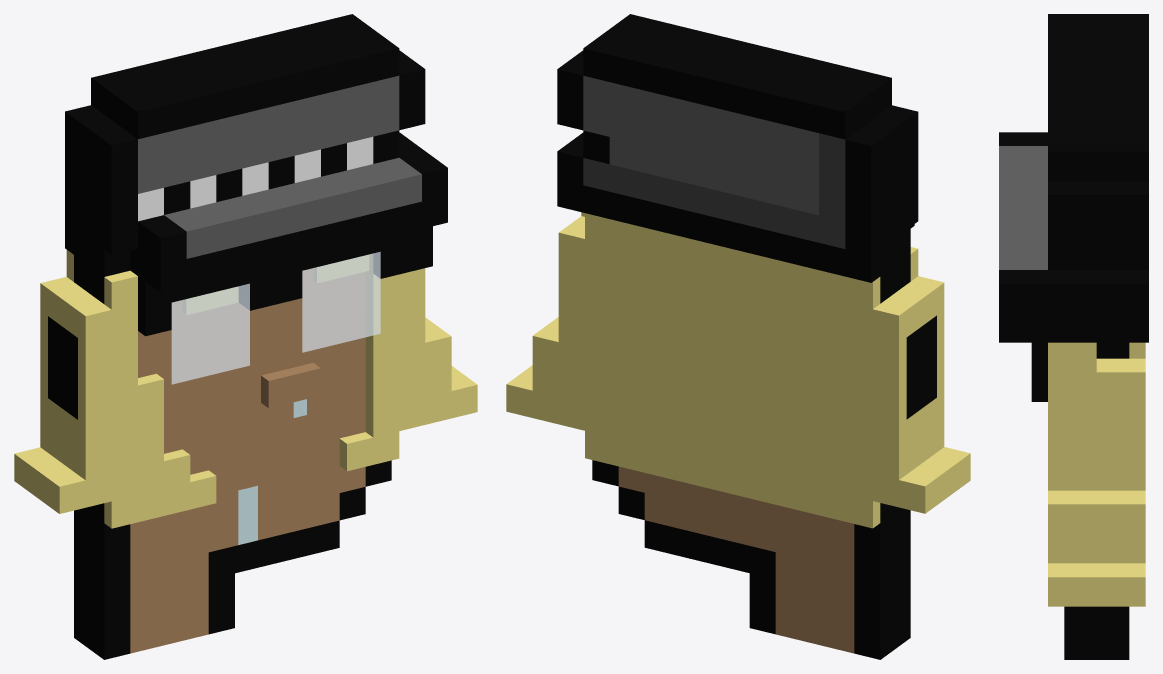
The picture shows the model from 3 angles, left to right: view 1: azimuth 30°, elevation 25°; view 2: azimuth 150°, elevation 25°; view 3: azimuth 270°, elevation 25°; orthographic projection. The views are drawn at different scales.
Parts seen in each view (by area): view 1: hat_biker_face (×5), face_main, hair14_front (×2), glasses_designer_glass, glasses_designer_mount, back_main, hat_biker_back (×2), hair14_back (×2), nose_regular_main, accessories_drool, eyebrows_left, eyebrows_right; view 2: hair14_back (×2), hat_biker_back (×2), back_main, hat_biker_face (×3), face_main, hair14_front (×2); view 3: hat_biker_face (×5), hair14_front (×2), hair14_back (×2), hat_biker_back (×2), back_main, face_main, glasses_designer_mount.
Boxes of the visible parts, <box> form: hat_biker_face (×5): <box>74,20,447,292</box>; face_main: <box>63,184,391,659</box>; hair14_front (×2): <box>37,254,477,528</box>; glasses_designer_glass: <box>171,251,380,384</box>; glasses_designer_mount: <box>138,226,432,336</box>; back_main: <box>48,173,88,648</box>; hat_biker_back (×2): <box>65,14,360,254</box>; hair14_back (×2): <box>14,250,454,497</box>; nose_regular_main: <box>261,363,320,408</box>; accessories_drool: <box>238,485,257,544</box>; eyebrows_left: <box>183,287,238,314</box>; eyebrows_right: <box>313,255,368,282</box>; hair14_back (×2): <box>506,213,947,528</box>; hat_biker_back (×2): <box>557,41,880,282</box>; back_main: <box>592,183,921,659</box>; hat_biker_face (×3): <box>566,14,918,226</box>; face_main: <box>895,172,936,648</box>; hair14_front (×2): <box>529,212,970,496</box>; hat_biker_face (×5): <box>999,14,1129,342</box>; hair14_front (×2): <box>1048,342,1096,606</box>; hair14_back (×2): <box>1096,342,1145,606</box>; hat_biker_back (×2): <box>1129,14,1148,342</box>; back_main: <box>1096,254,1129,659</box>; face_main: <box>1064,254,1096,659</box>; glasses_designer_mount: <box>1031,342,1047,401</box>.
Size of the model in its own units: 16 by 20 by 4.6.
